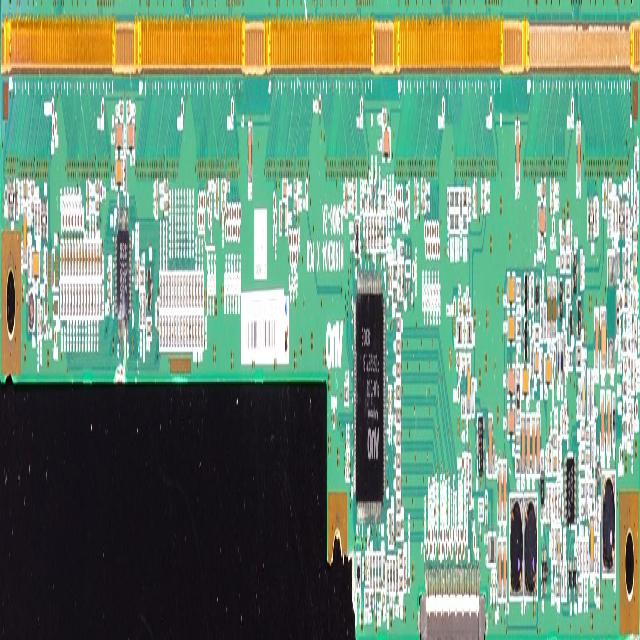Capacitor Jumper: (600, 306, 606, 372), (594, 308, 599, 375), (538, 202, 546, 235), (600, 391, 604, 454), (577, 122, 581, 184), (552, 279, 556, 341), (606, 391, 610, 453), (516, 125, 520, 186), (114, 158, 122, 188), (23, 205, 27, 265), (547, 280, 551, 340), (590, 514, 594, 574), (526, 415, 530, 474), (248, 126, 252, 184), (488, 534, 496, 563), (115, 121, 123, 150), (536, 415, 540, 472), (507, 367, 515, 395), (521, 368, 529, 396), (498, 465, 502, 521), (531, 417, 535, 472), (488, 418, 492, 473), (32, 252, 40, 279), (280, 202, 287, 232), (544, 358, 552, 384), (507, 407, 514, 435), (127, 121, 134, 149), (507, 314, 514, 341), (521, 415, 524, 475), (467, 356, 470, 414), (503, 540, 506, 598), (508, 276, 514, 304), (503, 464, 506, 520), (498, 542, 501, 598), (382, 132, 389, 156), (557, 530, 560, 570), (633, 252, 636, 291), (282, 181, 288, 200), (398, 264, 401, 302), (534, 353, 539, 375), (474, 181, 477, 217), (96, 242, 99, 277), (465, 456, 468, 491), (86, 184, 89, 217), (99, 242, 102, 274), (582, 376, 584, 417), (541, 181, 546, 197), (604, 181, 606, 218), (82, 242, 84, 278), (553, 456, 557, 474), (414, 181, 416, 215), (155, 182, 157, 216), (88, 242, 90, 276), (76, 242, 78, 276), (78, 242, 80, 276), (90, 243, 92, 277), (216, 183, 218, 216), (64, 243, 66, 276), (72, 243, 74, 276), (23, 181, 27, 197), (608, 196, 612, 212), (70, 242, 72, 274), (66, 243, 68, 275), (345, 183, 347, 214), (494, 569, 496, 599), (390, 388, 392, 417), (561, 408, 563, 437), (481, 180, 485, 194), (550, 181, 554, 195), (95, 181, 99, 195), (481, 198, 485, 212), (164, 198, 168, 212), (466, 300, 470, 314), (40, 308, 42, 336), (578, 539, 580, 567), (608, 181, 612, 194), (550, 197, 554, 210), (560, 232, 564, 245), (137, 260, 139, 286), (390, 266, 392, 292), (388, 266, 390, 292), (623, 359, 627, 372), (388, 388, 390, 414), (493, 448, 495, 474), (594, 506, 596, 532), (365, 556, 367, 582), (367, 556, 369, 582), (221, 182, 225, 194), (421, 198, 425, 210), (352, 199, 356, 211), (95, 199, 99, 211), (30, 201, 34, 213), (456, 356, 460, 368), (516, 434, 520, 446), (381, 594, 385, 606), (119, 103, 123, 115), (382, 112, 386, 124), (108, 287, 111, 302), (127, 101, 130, 116), (421, 181, 425, 192), (107, 270, 111, 281), (294, 181, 297, 194), (31, 182, 34, 195), (566, 234, 569, 247), (353, 181, 356, 193), (164, 181, 167, 193), (294, 198, 297, 210), (633, 298, 636, 310), (459, 302, 462, 314), (586, 454, 589, 466), (85, 241, 86, 276), (94, 242, 95, 277), (61, 243, 62, 278), (586, 430, 589, 441), (447, 190, 448, 219), (460, 190, 461, 218), (595, 546, 596, 574), (135, 260, 136, 287), (346, 452, 347, 479), (492, 572, 493, 599), (464, 318, 465, 344), (348, 453, 349, 479), (547, 447, 548, 472), (468, 192, 469, 216), (222, 199, 224, 211)
IC: (355, 303, 381, 510), (116, 217, 128, 315), (565, 448, 576, 536)
Resistor Jumper: (530, 273, 534, 310), (34, 201, 37, 238), (93, 284, 96, 320), (388, 512, 391, 548), (462, 190, 467, 211), (612, 199, 615, 234), (159, 314, 162, 349), (162, 316, 165, 351), (634, 151, 637, 185), (123, 158, 126, 192), (165, 274, 168, 308), (462, 211, 467, 231), (576, 346, 581, 366), (551, 528, 554, 561), (99, 284, 102, 316), (378, 557, 381, 589), (389, 559, 392, 591), (392, 264, 397, 282), (534, 326, 539, 344), (540, 353, 543, 383), (398, 575, 403, 593), (560, 253, 565, 270), (516, 321, 521, 338), (398, 552, 403, 569), (364, 592, 369, 609), (449, 190, 454, 206), (380, 193, 385, 209), (355, 217, 359, 237), (392, 287, 397, 303), (396, 476, 401, 492), (455, 211, 459, 230), (198, 274, 200, 312), (396, 427, 400, 446), (558, 439, 560, 477), (449, 213, 454, 228), (396, 497, 401, 512), (549, 486, 551, 523), (455, 189, 459, 207), (16, 181, 18, 217), (355, 237, 359, 255), (402, 264, 404, 300), (162, 273, 164, 309), (180, 274, 182, 310), (78, 282, 80, 318), (623, 380, 627, 398), (578, 382, 580, 418), (396, 406, 400, 424), (396, 451, 400, 469), (558, 486, 560, 522), (372, 557, 374, 593), (634, 189, 636, 224), (160, 273, 162, 308), (90, 281, 92, 316), (76, 282, 78, 317), (623, 293, 628, 307), (168, 314, 170, 349), (631, 402, 633, 437), (586, 483, 588, 518), (376, 554, 378, 589), (616, 199, 618, 233), (626, 206, 628, 240), (368, 216, 370, 250), (377, 216, 379, 250), (516, 282, 520, 299), (177, 275, 179, 309), (171, 274, 173, 308), (540, 305, 542, 339), (147, 320, 151, 337), (174, 314, 176, 348), (171, 314, 173, 348), (198, 315, 200, 349), (564, 403, 566, 437), (591, 430, 593, 464), (516, 457, 520, 474), (554, 486, 556, 520), (546, 488, 548, 522), (583, 540, 585, 574), (396, 560, 398, 594), (578, 581, 582, 598), (555, 581, 559, 598), (369, 592, 373, 609), (38, 204, 40, 237), (374, 216, 376, 249), (371, 216, 373, 249), (380, 217, 382, 250), (186, 275, 188, 308), (168, 275, 170, 308), (174, 275, 176, 308), (64, 284, 66, 317), (66, 284, 68, 317), (70, 284, 72, 317), (140, 293, 142, 326), (37, 302, 39, 335), (544, 308, 546, 341), (195, 314, 197, 347), (177, 315, 179, 348), (189, 315, 191, 348), (165, 316, 167, 349), (564, 335, 566, 368), (530, 344, 532, 377), (591, 385, 593, 418), (588, 385, 590, 418), (549, 441, 551, 474), (597, 501, 599, 534), (391, 513, 393, 546), (554, 528, 556, 561), (564, 566, 566, 599), (595, 200, 597, 232), (580, 254, 582, 286), (201, 275, 203, 307), (189, 276, 191, 308), (195, 275, 197, 307), (566, 284, 570, 300), (183, 275, 185, 307), (88, 284, 90, 316), (72, 284, 74, 316), (82, 284, 84, 316), (396, 316, 400, 332), (180, 316, 182, 348), (201, 316, 203, 348), (183, 316, 185, 348), (396, 361, 400, 377), (634, 360, 636, 392), (553, 432, 557, 448), (589, 482, 593, 498), (396, 520, 400, 536), (580, 542, 582, 574), (597, 542, 599, 574), (586, 542, 588, 574), (382, 556, 384, 588), (370, 556, 372, 588), (404, 557, 406, 589), (386, 560, 388, 592), (28, 246, 30, 277), (96, 284, 98, 315), (142, 293, 144, 324), (634, 322, 636, 353), (365, 218, 367, 248), (566, 255, 570, 270), (140, 270, 144, 285), (192, 275, 194, 305), (192, 316, 194, 346), (186, 316, 188, 346), (623, 338, 627, 353), (396, 339, 400, 354), (344, 386, 348, 401), (623, 421, 627, 436), (580, 426, 584, 441), (396, 385, 400, 399), (580, 450, 584, 464), (580, 484, 584, 498), (374, 184, 376, 211), (580, 504, 584, 516), (85, 284, 86, 318), (61, 286, 62, 316), (371, 186, 372, 210)
